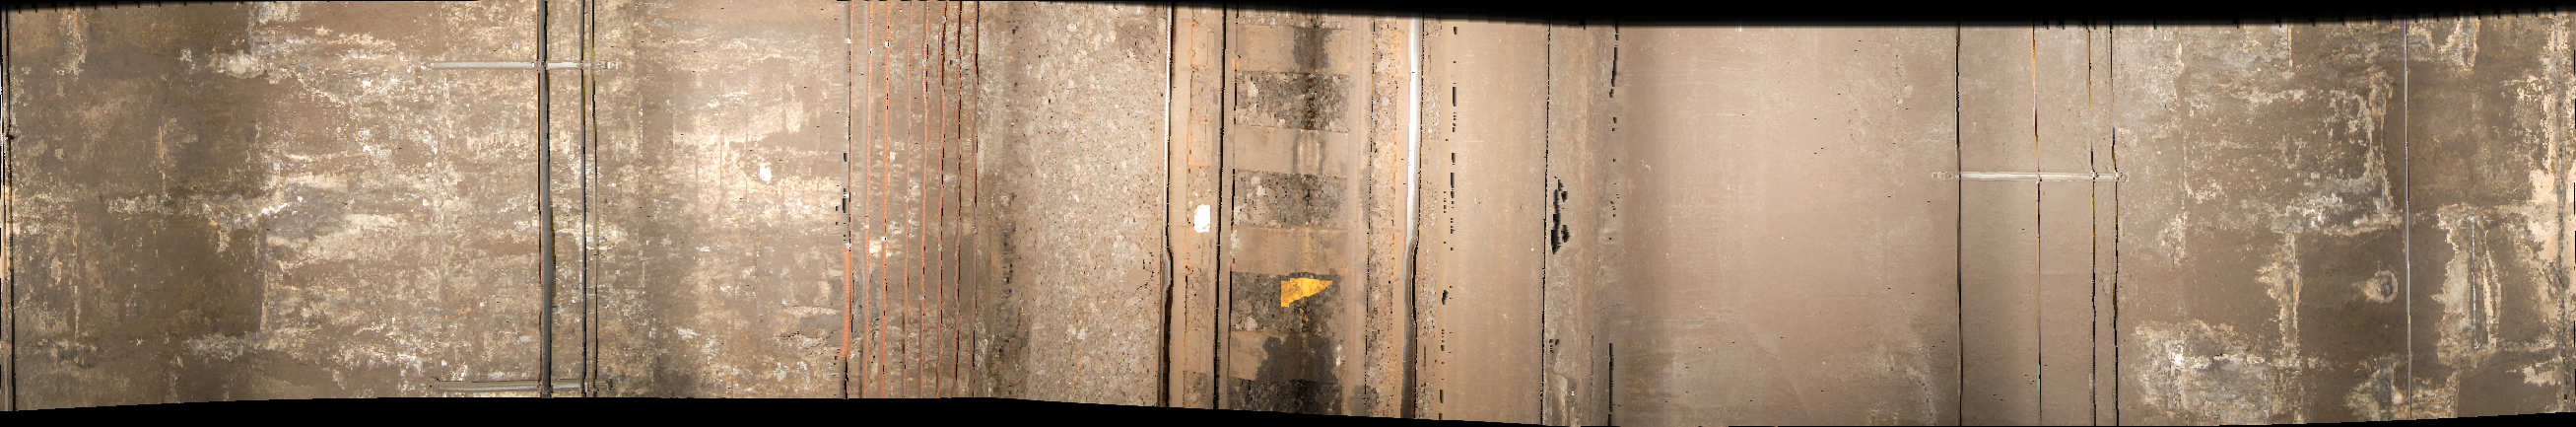pipes: (841, 10, 992, 427), (531, 2, 603, 424), (2086, 25, 2132, 427), (1939, 21, 1976, 427), (2022, 30, 2049, 427)
tracks: (1163, 2, 1449, 427)
